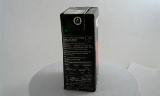appy: (55, 5, 94, 92)
